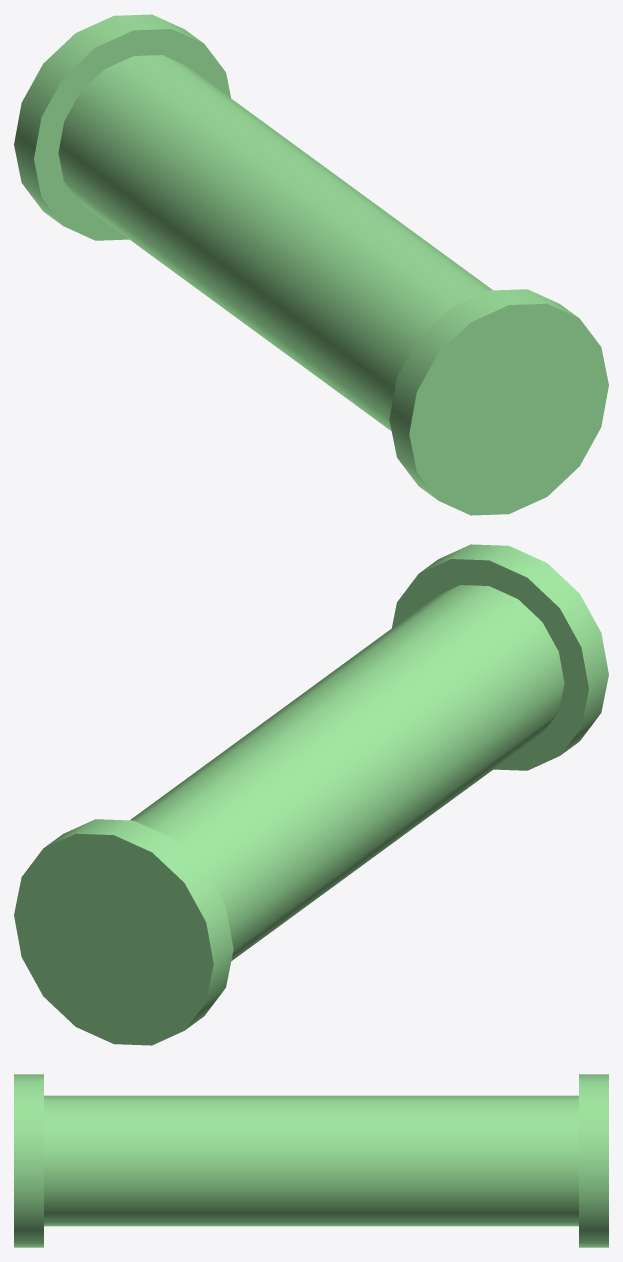
Rendered from CanoReto.fbx.
3 renders of one model, top to bottom at view 1: azimuth 30°, elevation 25°; view 2: azimuth 150°, elevation 25°; view 3: azimuth 270°, elevation 25°, orthographic. The views are drawn at different scales.
Visible parts, largest first — view 1: CanoReto; view 2: CanoReto; view 3: CanoReto.
Part boxes in pixels (box(x1,y1,x2,y2)): CanoReto: box(14, 14, 608, 515); CanoReto: box(14, 544, 608, 1045); CanoReto: box(14, 1074, 608, 1247).
Size of the model in its own units: 11.05 by 11.05 by 37.86.
